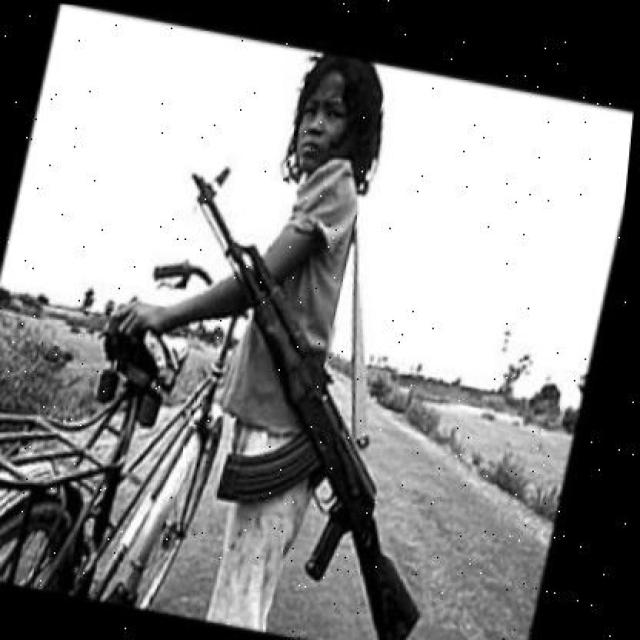weapon: (187, 164, 422, 639)
